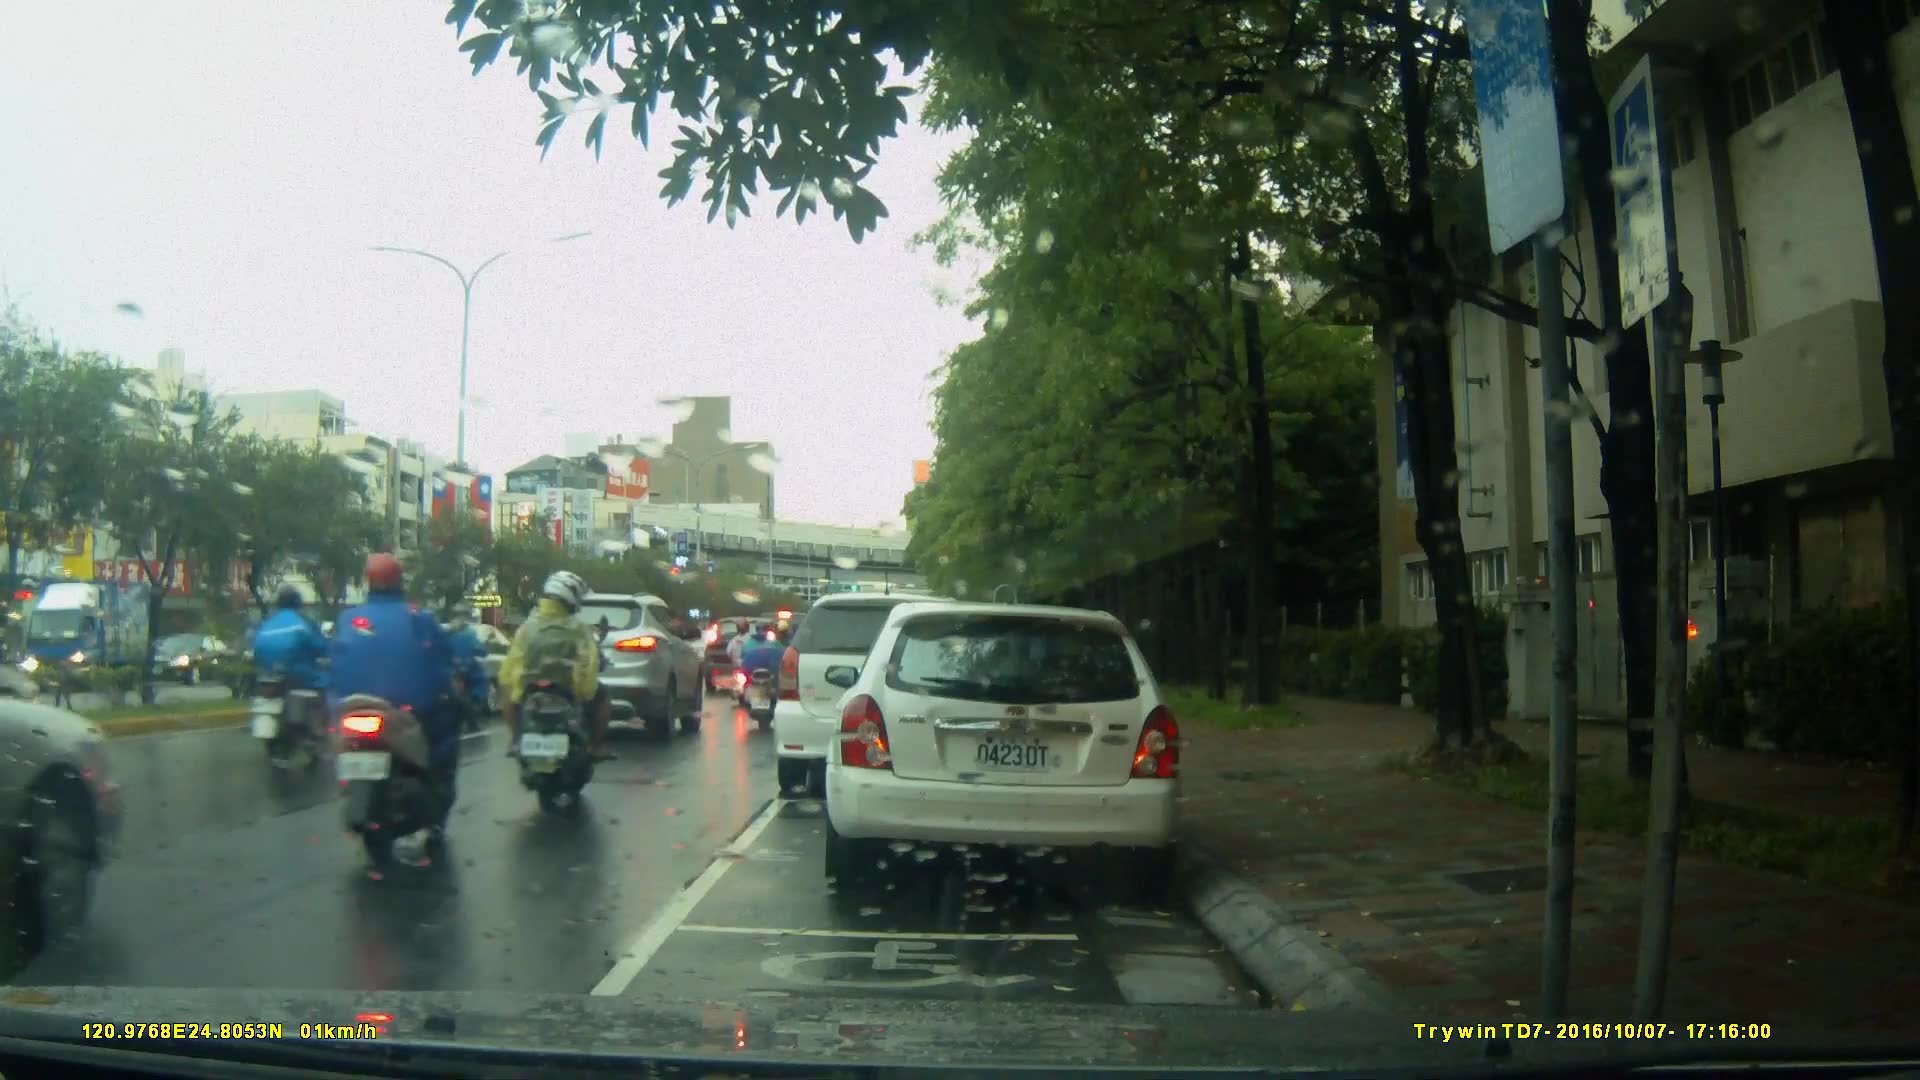rider: (324, 549, 466, 864), (500, 573, 612, 816), (249, 580, 336, 770), (419, 605, 504, 725), (737, 616, 789, 729), (727, 616, 766, 711)
vehicle: (822, 604, 1188, 883), (774, 595, 995, 802), (508, 592, 706, 746), (20, 576, 167, 697), (144, 630, 241, 686)
